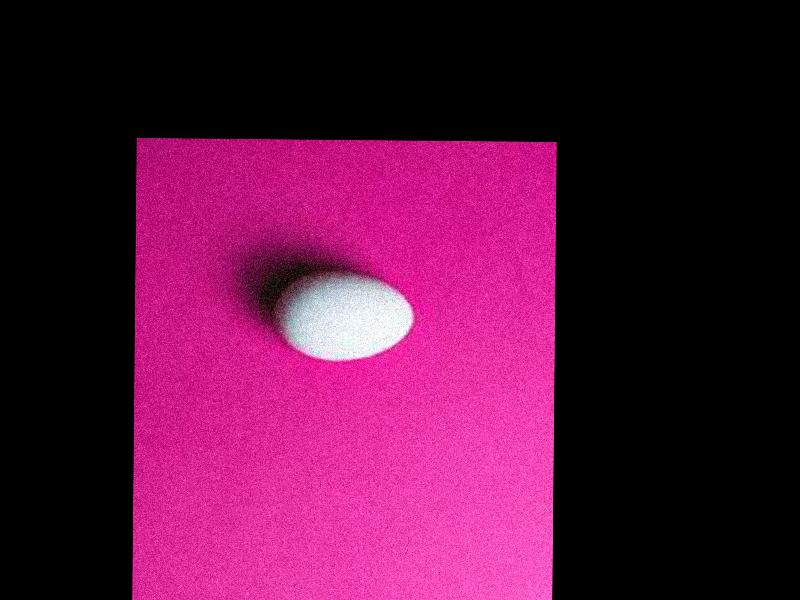Eggs: (274, 271, 414, 362)
